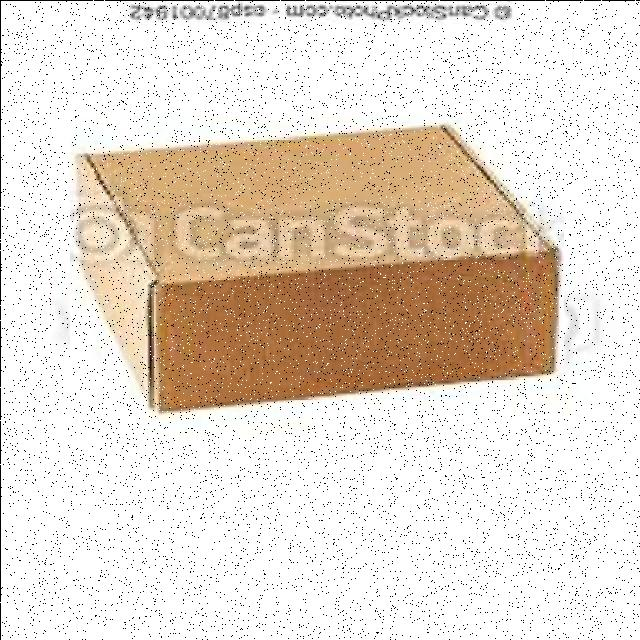normal: (69, 115, 563, 443)
